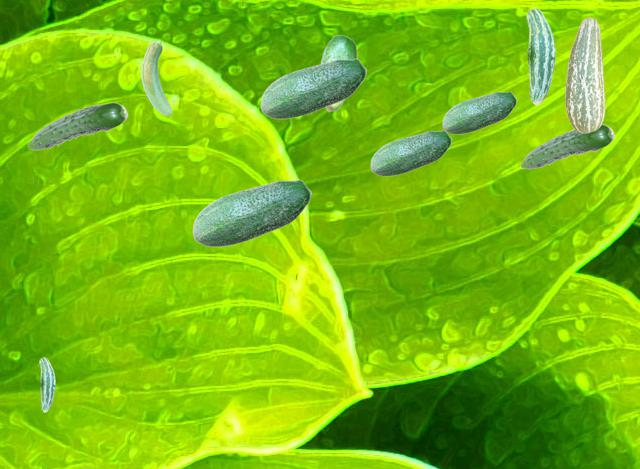cucumber: (192, 179, 311, 246), (260, 58, 366, 118), (27, 102, 127, 149), (565, 17, 604, 132), (520, 124, 614, 168), (370, 130, 451, 175), (442, 91, 516, 133), (320, 34, 356, 111), (526, 8, 554, 104), (141, 41, 171, 114), (39, 357, 54, 411)
